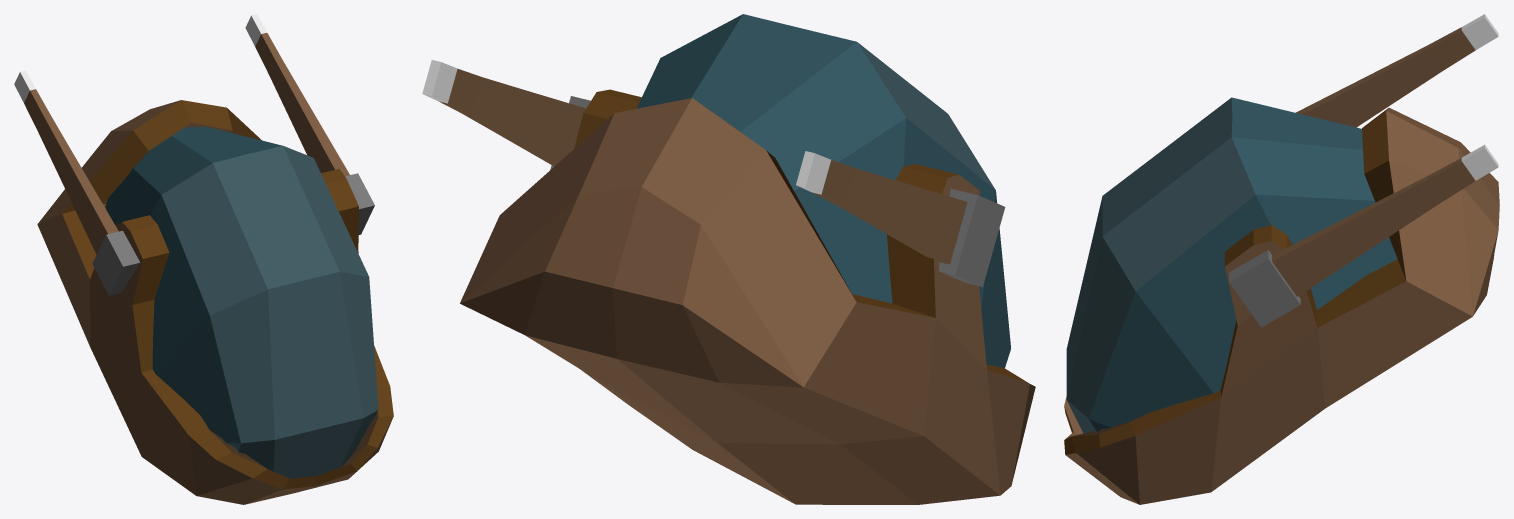
File: head.fbx
The picture shows the model from 3 angles, left to right: view 1: azimuth 30°, elevation 25°; view 2: azimuth 150°, elevation 25°; view 3: azimuth 270°, elevation 25°; orthographic projection. The views are drawn at different scales.
Visible parts, largest first — view 1: head; view 2: head; view 3: head.
Part boxes in pixels (x1=…): head: x1=14, y1=14, x2=393, y2=504; head: x1=422, y1=14, x2=1035, y2=504; head: x1=1064, y1=14, x2=1499, y2=504.
Bounding box in the file's own units: 161 × 206 × 208.
